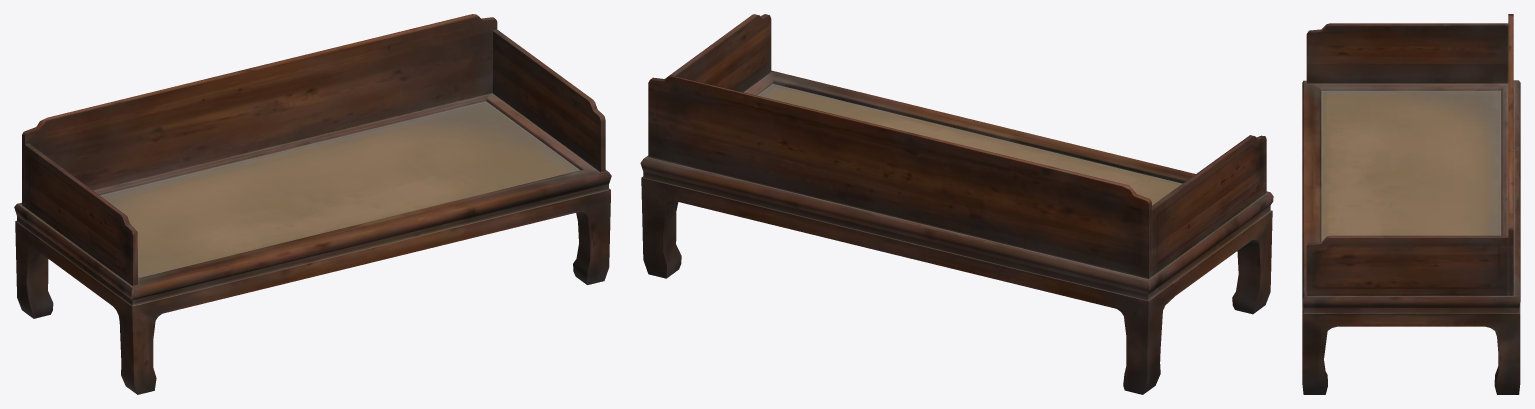
The model's file is chinese_sofa.glb.
3 renders of one model, left to right at view 1: azimuth 30°, elevation 25°; view 2: azimuth 150°, elevation 25°; view 3: azimuth 270°, elevation 25°, orthographic. The views are drawn at different scales.
Parts seen in each view (by area): view 1: chinese_sofa; view 2: chinese_sofa; view 3: chinese_sofa.
Part boxes in pixels (left/top/right/bottom): chinese_sofa: left=14, top=14, right=611, bottom=394; chinese_sofa: left=640, top=14, right=1273, bottom=394; chinese_sofa: left=1302, top=14, right=1520, bottom=394.
Size of the model in its own units: 2.28 by 0.86 by 0.9675.
1 material, 1 textured.
